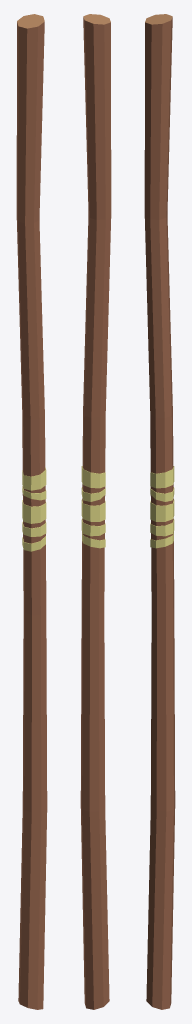
Rendered from Bo Staff.fbx.
The picture shows the model from 3 angles, left to right: view 1: azimuth 30°, elevation 25°; view 2: azimuth 210°, elevation 25°; view 3: azimuth 330°, elevation 25°; orthographic projection.
Parts seen in each view (by area): view 1: Bo Staff; view 2: Bo Staff; view 3: Bo Staff.
Part boxes in pixels (left/top/right/bottom): Bo Staff: left=16, top=14, right=47, bottom=1009; Bo Staff: left=80, top=14, right=111, bottom=1009; Bo Staff: left=144, top=14, right=175, bottom=1009.
Size of the model in its own units: 10.35 by 349 by 9.3.
